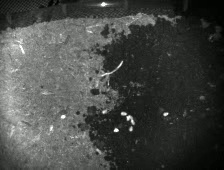corn: (47, 123, 55, 134), (112, 126, 121, 134), (119, 110, 128, 117), (161, 111, 170, 118), (101, 108, 109, 115), (129, 118, 136, 126), (127, 125, 135, 132), (60, 113, 67, 120), (125, 114, 131, 122), (129, 113, 134, 121)
